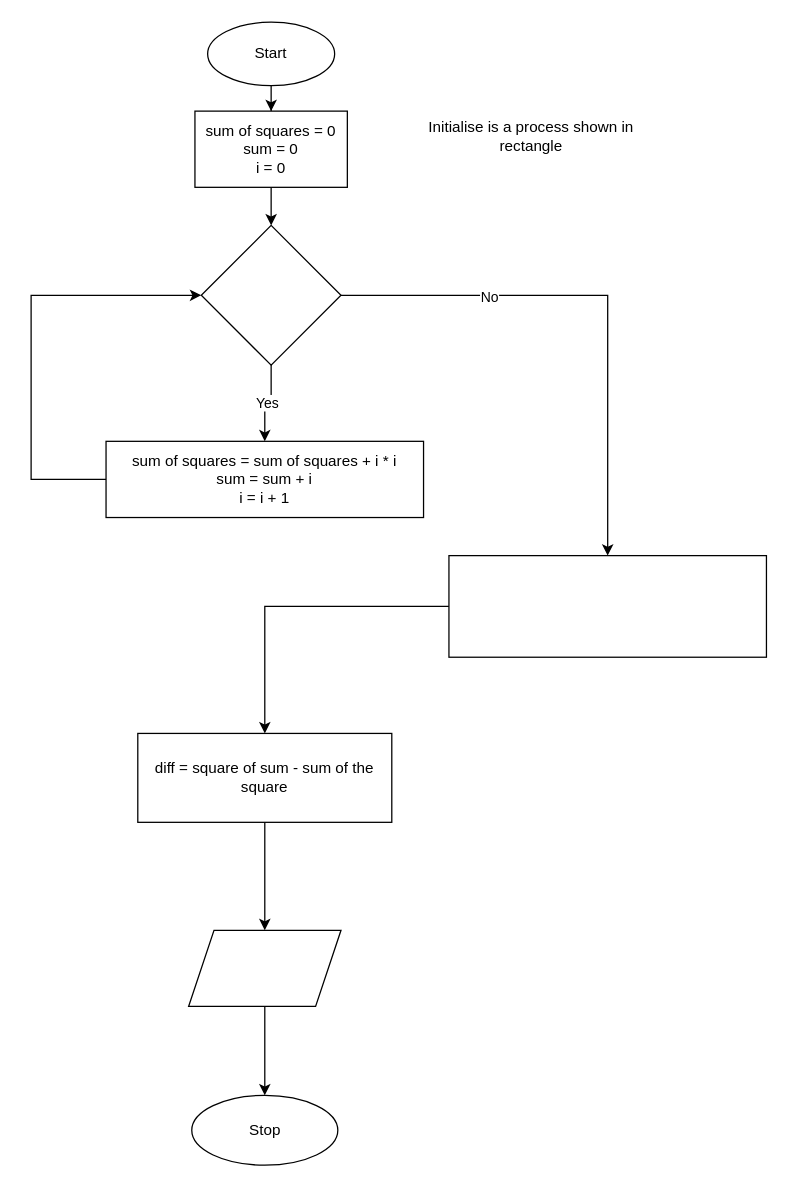
This 789x1187 diagram has some shape labels left out. Here are the shapes that lost their labels. From the top down, the centre of each, then its label:
At (x=270, y=294): "is i <= 100?".
At (x=607, y=605): "square of the sum = sum * sum".
At (x=264, y=967): "Display diff".
